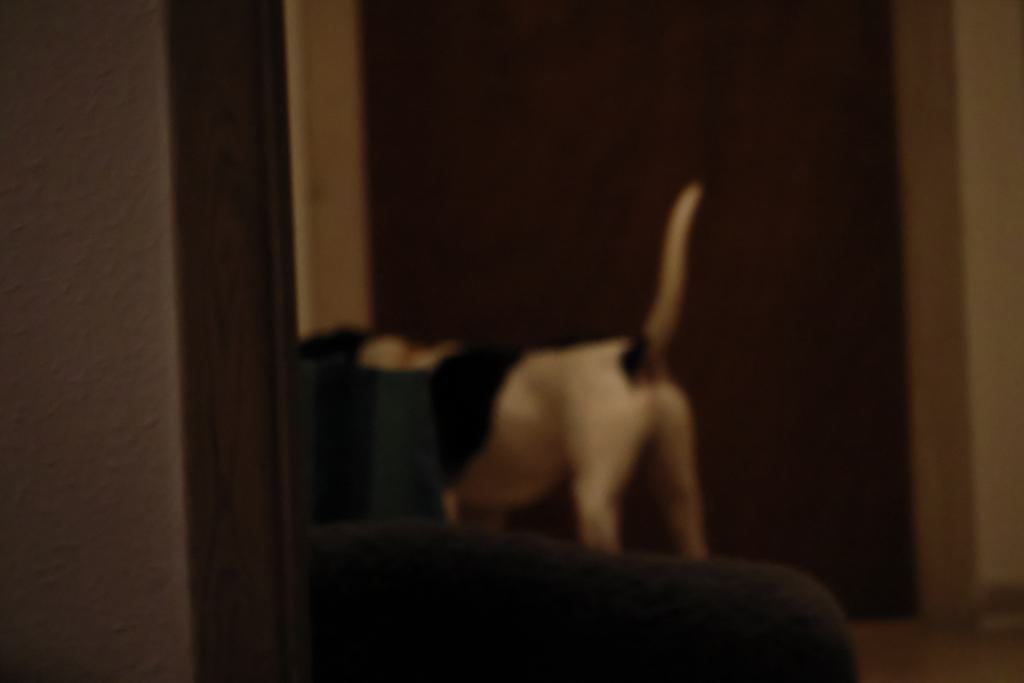Dog: (293, 174, 711, 576)
